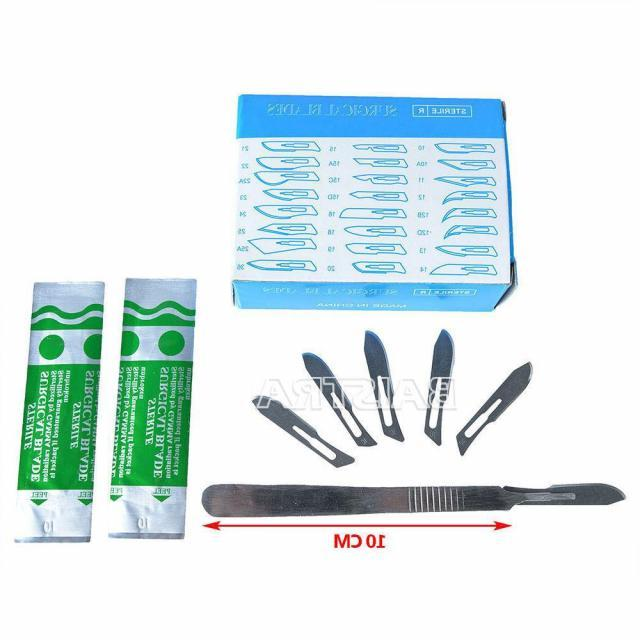Scalpel: (196, 471, 626, 522), (454, 358, 537, 456), (250, 395, 356, 468), (302, 351, 379, 449), (362, 329, 407, 443), (422, 327, 457, 447)
